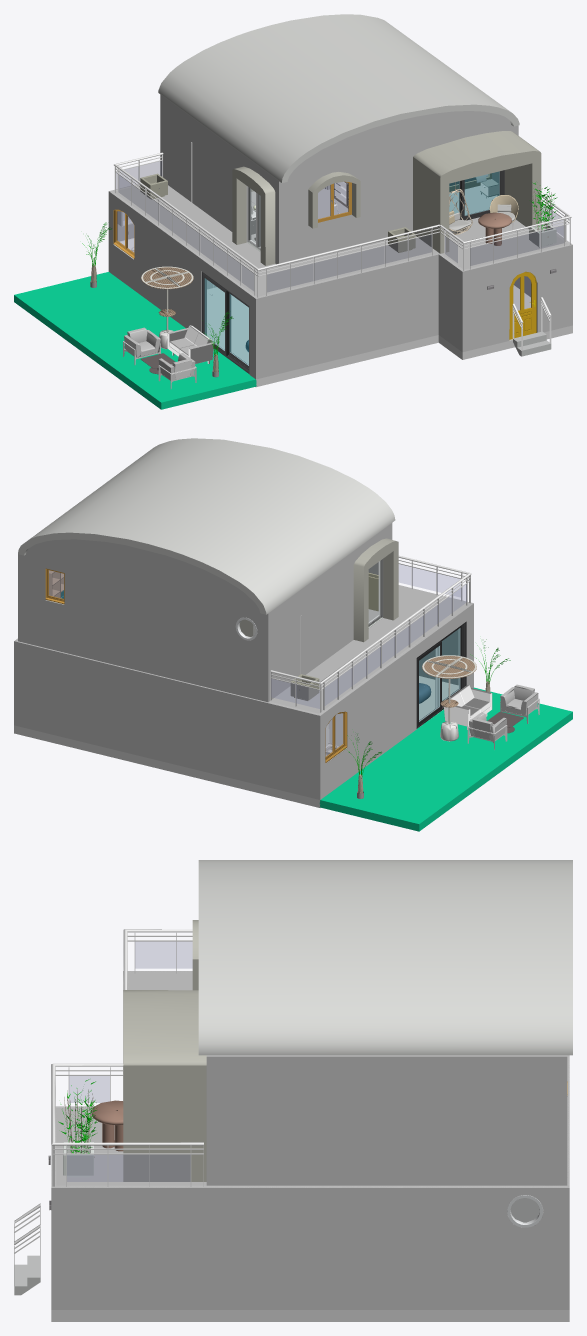
The model's file is house.glb.
The picture shows the model from 3 angles, top to bottom: view 1: azimuth 30°, elevation 25°; view 2: azimuth 150°, elevation 25°; view 3: azimuth 270°, elevation 25°; orthographic projection. The views are drawn at different scales.
Visible parts, largest first — view 1: Wall Murs <299256 Int. Parpaing 100 mm<, FamilyInstance Portes Doors_GEALAN_Smoovio_Sliding-Door_Plan; view 2: Wall Murs <299256 Int. Parpaing 100 mm<, FamilyInstance Portes Doors_GEALAN_Smoovio_Sliding-Door_Plan; view 3: Wall Murs <299256 Int. Parpaing 100 mm<, FamilyInstance Portes Doors_GEALAN_Smoovio_Sliding-Door_Plan.
Boxes of the visible parts, left/top/right/bottom form: Wall Murs <299256 Int. Parpaing 100 mm<: left=14, top=14, right=572, bottom=409; FamilyInstance Portes Doors_GEALAN_Smoovio_Sliding-Door_Plan: left=116, top=161, right=563, bottom=365; Wall Murs <299256 Int. Parpaing 100 mm<: left=14, top=438, right=572, bottom=831; FamilyInstance Portes Doors_GEALAN_Smoovio_Sliding-Door_Plan: left=49, top=562, right=466, bottom=756; Wall Murs <299256 Int. Parpaing 100 mm<: left=14, top=860, right=572, bottom=1321; FamilyInstance Portes Doors_GEALAN_Smoovio_Sliding-Door_Plan: left=67, top=942, right=192, bottom=1181.
Size of the model in its own units: 13105 by 6900 by 10780.
2 materials, 2 textured.
